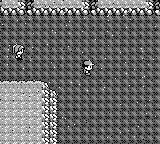main: (82, 61, 95, 75)
no-caminable: (90, 0, 159, 16), (26, 0, 90, 16), (42, 84, 57, 143), (1, 0, 26, 15), (1, 78, 42, 87)
npc: (12, 45, 24, 60)
